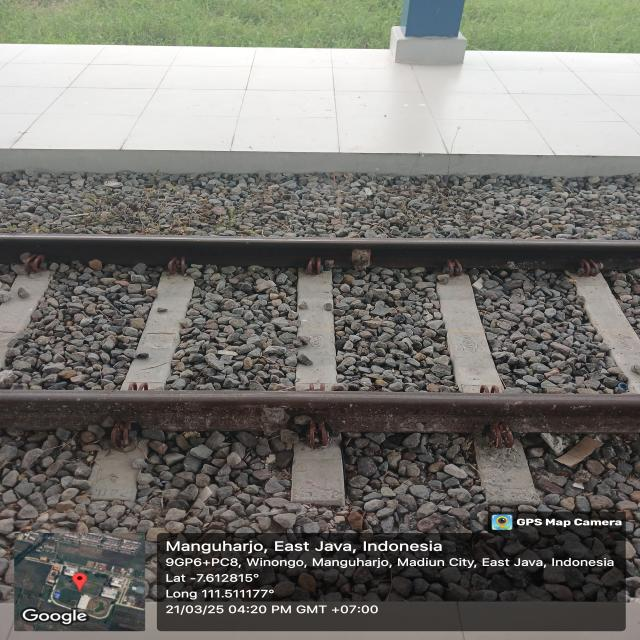rail-detection: (0, 390, 640, 434), (0, 233, 640, 270)
